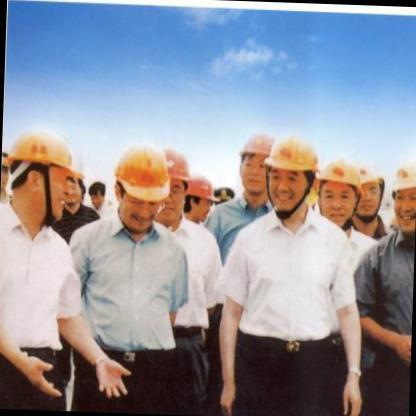bee: (5, 118, 82, 232), (106, 135, 171, 230), (263, 129, 320, 213), (315, 152, 366, 230), (232, 124, 279, 206), (386, 154, 416, 241), (352, 157, 387, 226), (162, 154, 190, 220), (184, 176, 218, 228)
